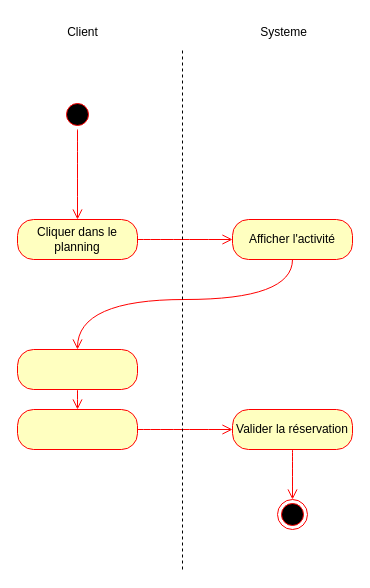
This 370x588 diagram has some shape labels left out. Each missing label, with the centre of its shape:
Cliquer sur réserver l'activité: the point at 77,369
Payer l'activité: the point at 77,429
